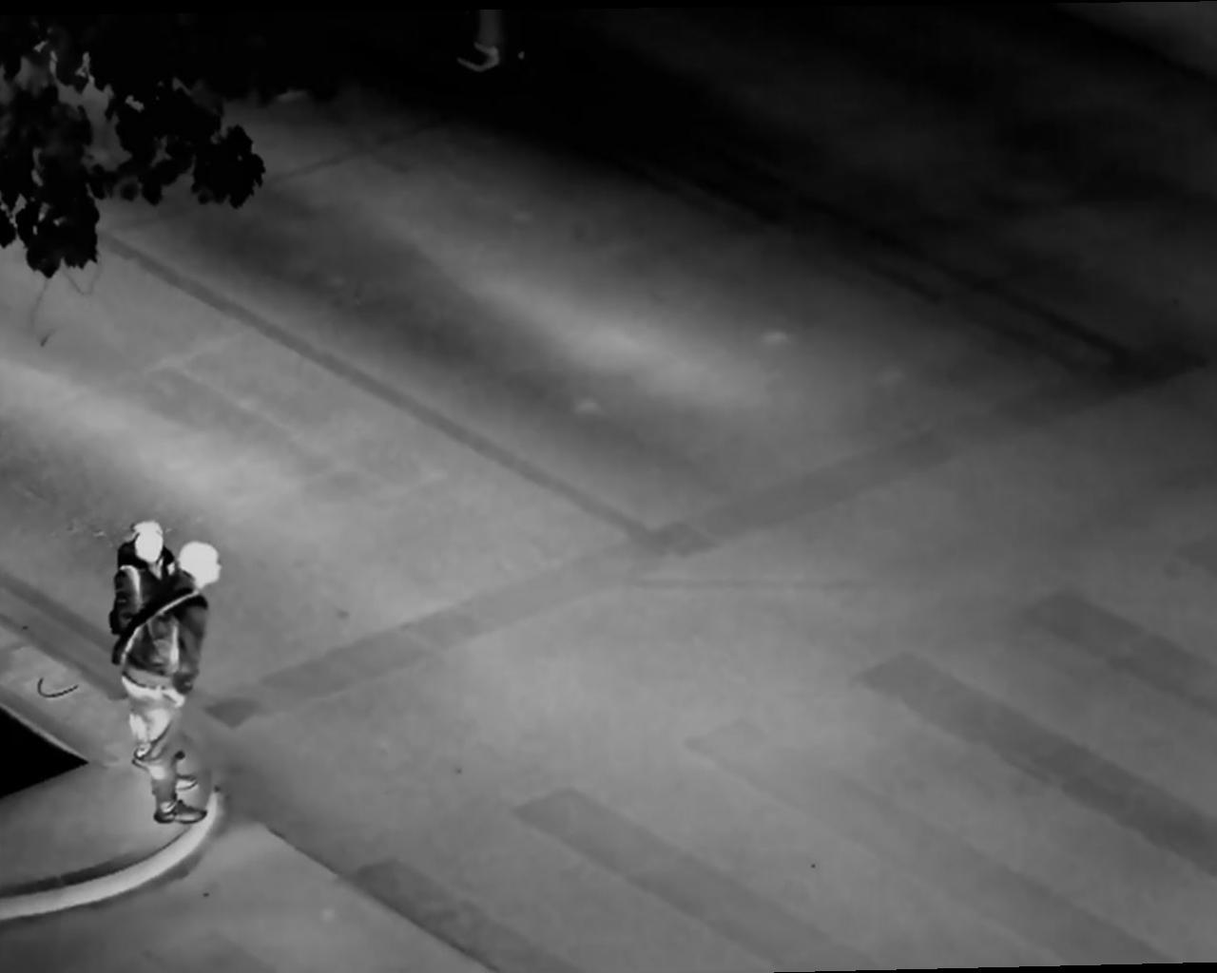person: (115, 542, 222, 830), (107, 516, 185, 773)
